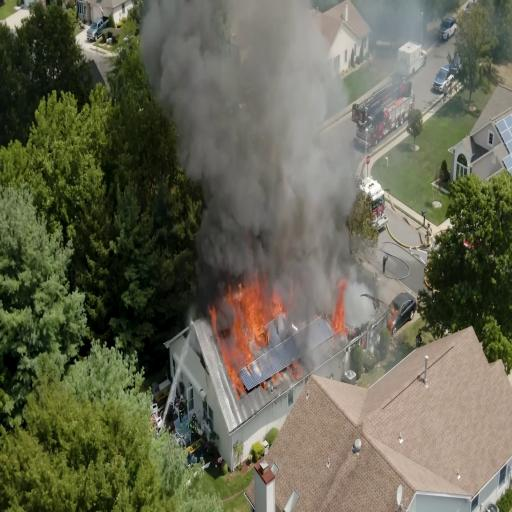fire: (212, 282, 286, 391), (334, 278, 350, 329)
smoke: (203, 74, 284, 262), (159, 0, 308, 102)
